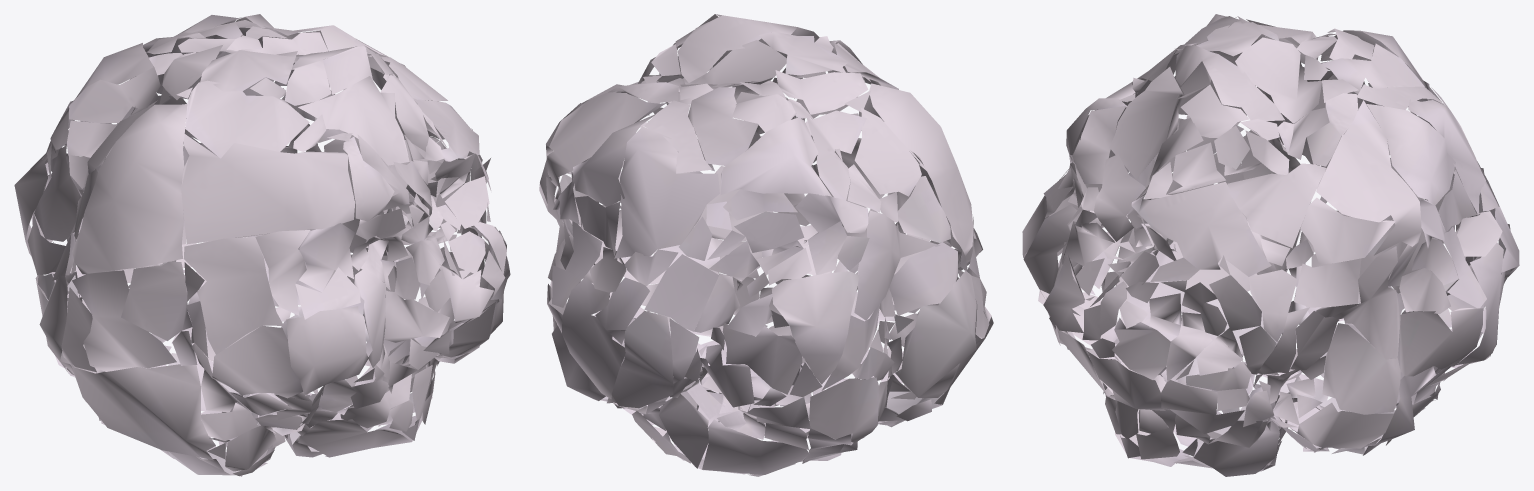
File: waste-paper.glb
3 renders of one model, left to right at view 1: azimuth 30°, elevation 25°; view 2: azimuth 150°, elevation 25°; view 3: azimuth 270°, elevation 25°, orthographic. The views are drawn at different scales.
Visible parts, largest first — view 1: Mesh_0; view 2: Mesh_0; view 3: Mesh_0.
Boxes of the visible parts, x1,y1,x2,y2 form: Mesh_0: [14, 14, 510, 476]; Mesh_0: [539, 14, 993, 476]; Mesh_0: [1022, 14, 1519, 476].
Bounding box in the file's own units: 1.9 × 1.72 × 1.89.
Materials: 1 (1 with a texture image).
